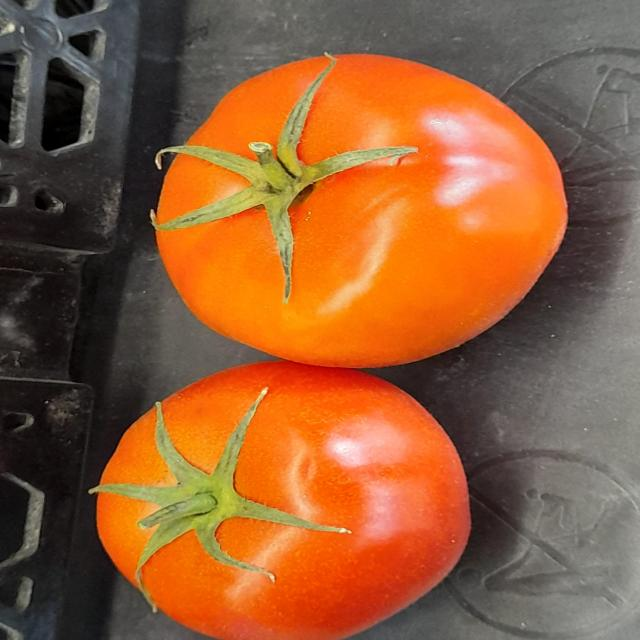tomato: (128, 34, 576, 367), (64, 357, 476, 640)
